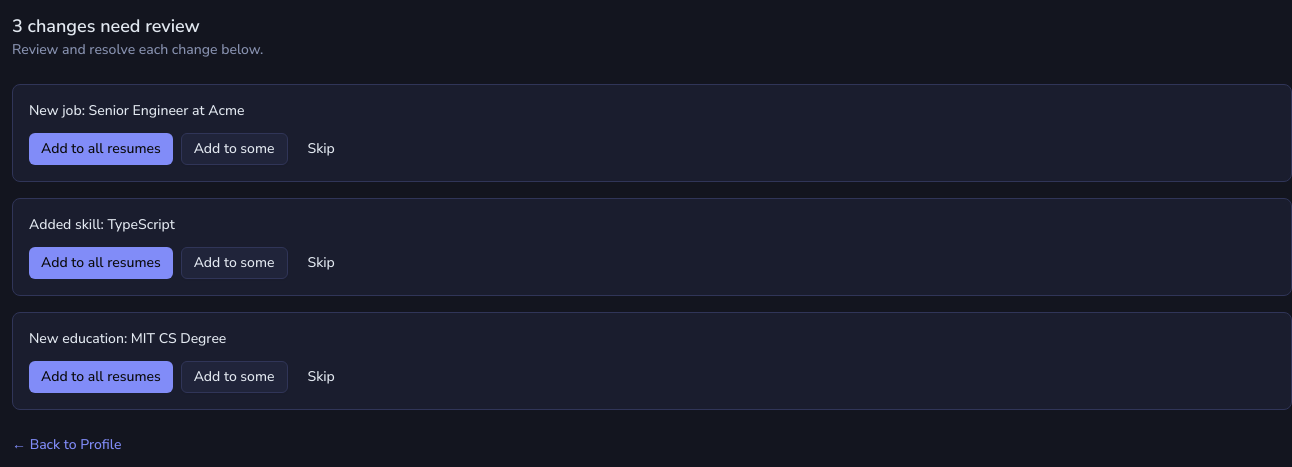
ChangeFlagsResolver › loading states › disables buttons during resolution
Click the button with test id "add-all-1" at [101, 149], box left=29, top=133, right=173, bottom=165
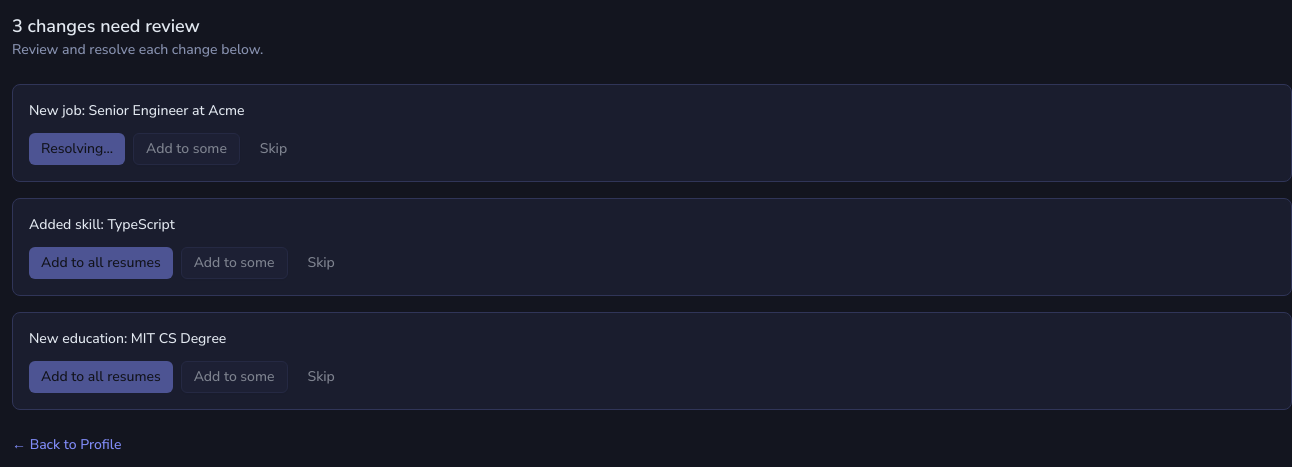
Expected: the button with test id "add-all-1" is disabled, left=29, top=133, right=125, bottom=165
Expected: the button with test id "add-some-1" is disabled, left=133, top=133, right=240, bottom=165
Expected: the button with test id "skip-1" is disabled, left=248, top=133, right=299, bottom=165
